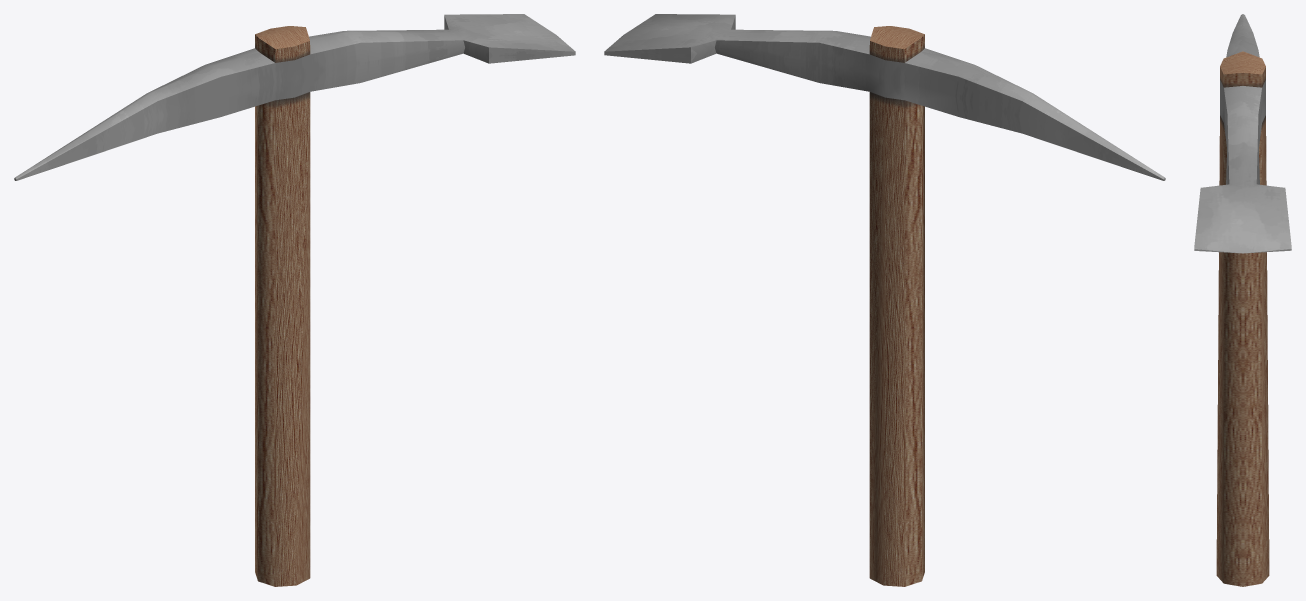
File: Mattock.FBX
3 views of the same model, side by side, from view 1: azimuth 30°, elevation 25°; view 2: azimuth 150°, elevation 25°; view 3: azimuth 270°, elevation 25° (orthographic). The views are drawn at different scales.
Visible parts, largest first — view 1: Mattock; view 2: Mattock; view 3: Mattock.
Part boxes in pixels (x1=…): Mattock: x1=14, y1=14, x2=575, y2=586; Mattock: x1=604, y1=14, x2=1165, y2=586; Mattock: x1=1194, y1=14, x2=1291, y2=586.
Size of the model in its own units: 46.4 by 44.84 by 7.65.
